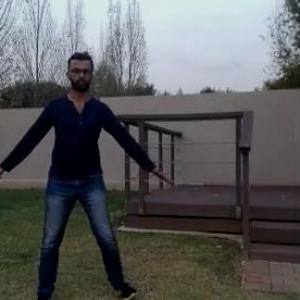land: (0, 50, 162, 299)
